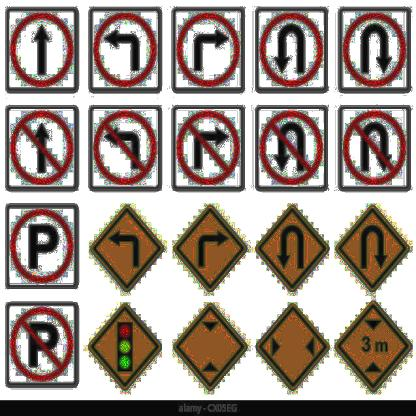No left turn: (92, 107, 160, 189)
No right turn: (170, 106, 244, 189)
